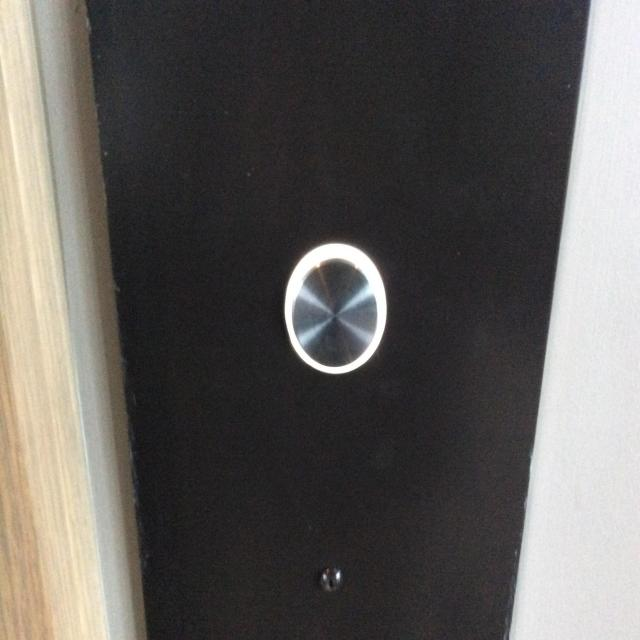empty: (281, 238, 391, 378)
